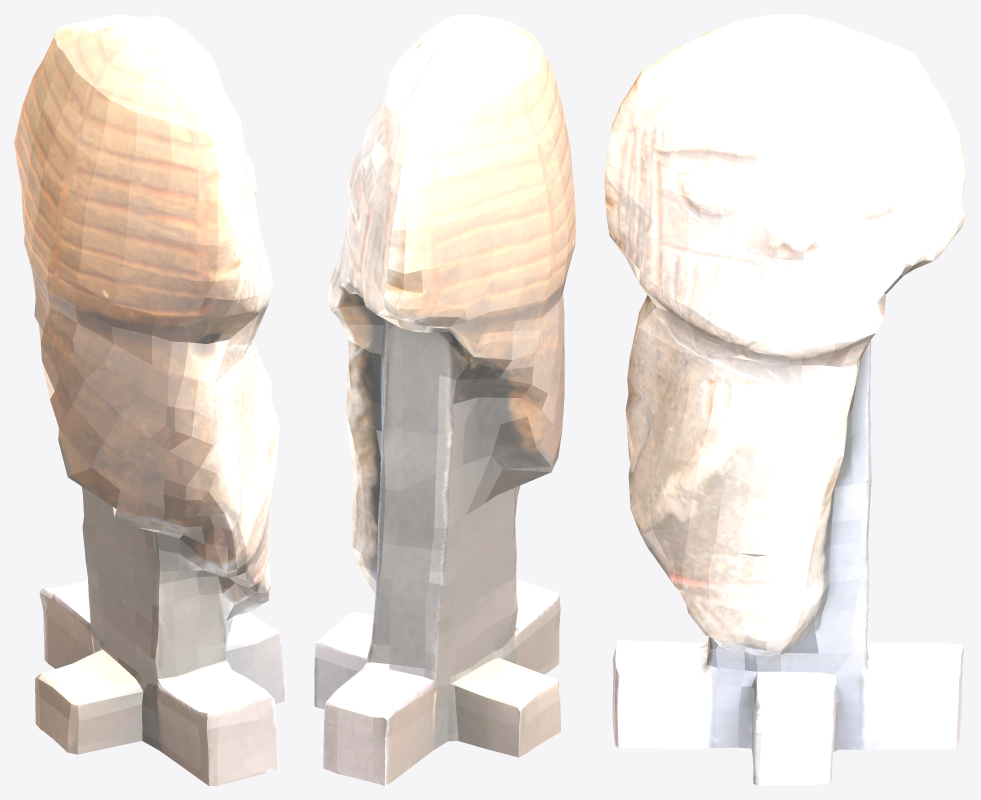
Rendered from chavin-fig-entera.glb.
3 renders of one model, left to right at view 1: azimuth 30°, elevation 25°; view 2: azimuth 150°, elevation 25°; view 3: azimuth 270°, elevation 25°, orthographic. The views are drawn at different scales.
Visible parts, largest first — view 1: Box001; view 2: Box001; view 3: Box001.
Part boxes in pixels (x1,y1,x2,y2): Box001: [14, 14, 285, 785]; Box001: [314, 14, 575, 785]; Box001: [604, 14, 966, 785].
Size of the model in its own units: 42.15 by 126 by 58.81.
